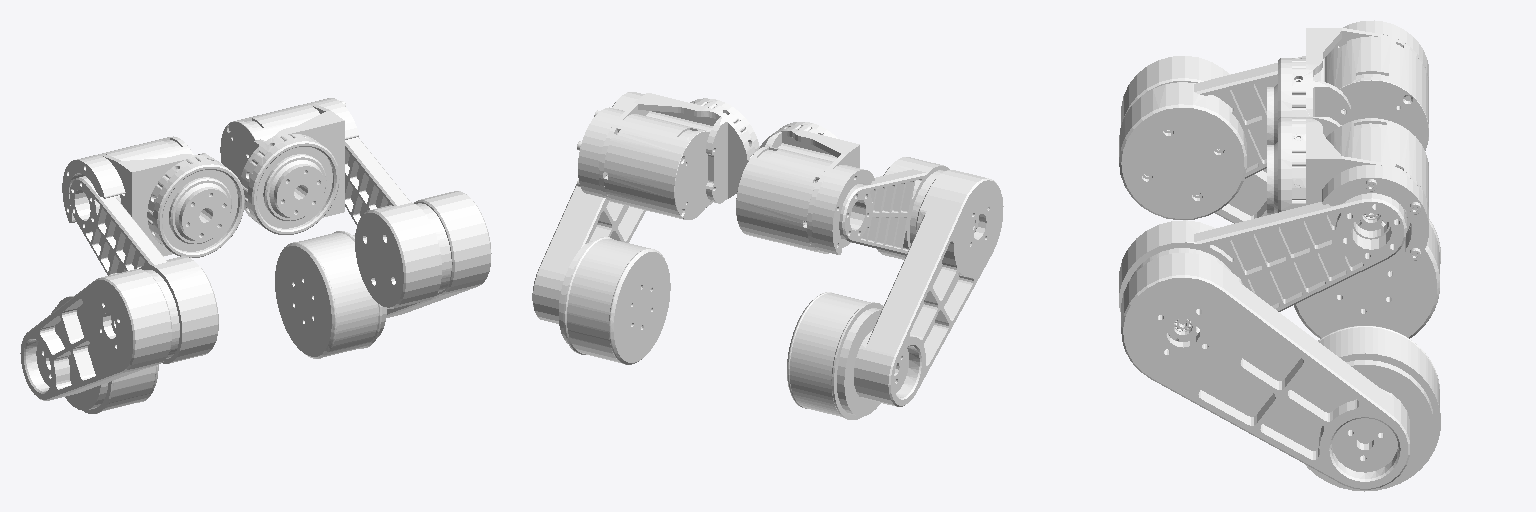
robot.urdf — tron1_wheel_leg:
<?xml version='1.0' encoding='utf-8'?>
<robot name="tron1_wheel_leg">
  <link name="base_Link">
    <inertial>
      <origin xyz="0.000238961410698956 -0.0414964977176522 0.0143228345893612" rpy="0 0 0" />
      <mass value="2.4" />
      <inertia ixx="0.00109910968168" ixy="4.21996020753e-08" ixz="-6.28247829287e-08" iyy="0.00219115654325" iyz="8.29875769819e-05" izz="0.00216761305566" />
    </inertial>
    <visual>
      <origin xyz="0 0 0" rpy="0 0 0" />
      <geometry>
        <mesh filename="meshes/base_link.STL" />
      </geometry>
      <material name="">
        <color rgba="1 1 1 1" />
      </material>
    </visual>
    <collision name="base_ellipsoid_cut_000">
      <origin xyz="0 0 0" rpy="0 0 0" />
      <geometry>
        <mesh filename="meshes/base_ellipsoid_cut_000.stl" />
      </geometry>
    </collision>
    <collision name="base_ellipsoid_cut_001">
      <origin xyz="0 0 0" rpy="0 0 0" />
      <geometry>
        <mesh filename="meshes/base_ellipsoid_cut_001.stl" />
      </geometry>
    </collision>
  </link>
  <link name="abad_R_Link">
    <inertial>
      <origin xyz="0.0121090930850143 0.0378223280299751 0.000356934751117211" rpy="0 0 0" />
      <mass value="0.771610354481" />
      <inertia ixx="0.000293809716129" ixy="-6.91676866378e-06" ixz="-8.51601302618e-09" iyy="0.000340551407314" iyz="2.20459921278e-06" izz="0.000305476206336" />
    </inertial>
    <visual>
      <origin xyz="0 0 0" rpy="0 0 0" />
      <geometry>
        <mesh filename="meshes/R_1.STL" />
      </geometry>
      <material name="">
        <color rgba="1 1 1 1" />
      </material>
    </visual>
    <collision>
      <origin xyz="0 0 0" rpy="0 0 0" />
      <geometry>
        <mesh filename="meshes/R_1.STL" />
      </geometry>
    </collision>
  </link>
  <joint name="abad_R_Joint" type="revolute">
    <origin xyz="0.034 0 -0.011996" rpy="0 0 0" />
    <parent link="base_Link" />
    <child link="abad_R_Link" />
    <axis xyz="0 -1 0" />
    <limit lower="-1.396263" upper="0.383972" effort="20.0" velocity="12.0" />
  </joint>
  <link name="hip_R_Link">
    <inertial>
      <origin xyz="0.0184968954465803 -0.0874621342729091 -0.0353372604782438" rpy="0 0 0" />
      <mass value="0.658247886808" />
      <inertia ixx="0.000413404287277" ixy="-1.91998357707e-05" ixz="-7.76042873774e-06" iyy="0.000282633084246" iyz="-4.62598989459e-05" izz="0.000380019728098" />
    </inertial>
    <visual>
      <origin xyz="0 0 0" rpy="0 0 0" />
      <geometry>
        <mesh filename="meshes/R_2.STL" />
      </geometry>
      <material name="">
        <color rgba="1 1 1 1" />
      </material>
    </visual>
    <collision>
      <origin xyz="0 0 0" rpy="0 0 0" />
      <geometry>
        <mesh filename="meshes/R_2.STL" />
      </geometry>
    </collision>
  </link>
  <joint name="hip_R_Joint" type="revolute">
    <origin xyz="0.0425 0.04645 0" rpy="0 0 0" />
    <parent link="abad_R_Link" />
    <child link="hip_R_Link" />
    <axis xyz="1 0 0" />
    <limit lower="0.0" upper="1.012291" effort="20.0" velocity="12.0" />
  </joint>
  <link name="knee_R_Link">
    <inertial>
      <origin xyz="-0.0232131163131659 0.0722509386714479 -0.0515131201624246" rpy="0 0 0" />
      <mass value="0.370141758711" />
      <inertia ixx="0.000502227994583" ixy="1.22193231046e-05" ixz="-8.71207315995e-06" iyy="0.000233630172542" iyz="0.000138222692113" izz="0.000328948323424" />
    </inertial>
    <visual>
      <origin xyz="0 0 0" rpy="0 0 0" />
      <geometry>
        <mesh filename="meshes/R_3.STL" />
      </geometry>
      <material name="">
        <color rgba="1 1 1 1" />
      </material>
    </visual>
    <collision>
      <origin xyz="0 0 0" rpy="0 0 0" />
      <geometry>
        <mesh filename="meshes/R_3.STL" />
      </geometry>
    </collision>
  </link>
  <joint name="knee_R_Joint" type="revolute">
    <origin xyz="0.0475 -0.092718 -0.037461" rpy="0 0 0" />
    <parent link="hip_R_Link" />
    <child link="knee_R_Link" />
    <axis xyz="-1 0 0" />
    <limit lower="-1.361357" upper="0.872665" effort="20.0" velocity="12.0" />
  </joint>
  <link name="wheel_R_Link">
    <inertial>
      <origin xyz="0 0 0" rpy="0 0 0" />
      <mass value="0.07" />
      <inertia ixx="4.921875e-05" ixy="0" ixz="0" iyy="3.17552083333e-05" iyz="0" izz="3.17552083333e-05" />
    </inertial>
    <visual>
      <origin xyz="0 0 0" rpy="0 0 0" />
      <geometry>
        <mesh filename="meshes/R_4.STL" />
      </geometry>
      <material name="">
        <color rgba="1 1 1 1" />
      </material>
    </visual>
    <collision>
      <origin xyz="0.0115 0 0" rpy="0 1.570796326795 0" />
      <geometry>
        <cylinder radius="0.0375" length="0.035" />
      </geometry>
    </collision>
  </link>
  <joint name="wheel_R_Joint" type="continuous">
    <origin xyz="-0.0545 0.089566 -0.063858" rpy="0 0 0" />
    <parent link="knee_R_Link" />
    <child link="wheel_R_Link" />
    <axis xyz="-1 0 0" />
    <limit effort="8.0" velocity="20.0" />
  </joint>
  <link name="abad_L_Link">
    <inertial>
      <origin xyz="-0.0118089656280448 0.0377086917867089 0.000263652495331686" rpy="0 0 0" />
      <mass value="0.767910706162" />
      <inertia ixx="0.000294835365595" ixy="6.9346118204e-06" ixz="-2.73276640611e-09" iyy="0.000341697738624" iyz="2.16249149803e-06" izz="0.000306510403039" />
    </inertial>
    <visual>
      <origin xyz="0 0 0" rpy="0 0 0" />
      <geometry>
        <mesh filename="meshes/L_1.STL" />
      </geometry>
      <material name="">
        <color rgba="1 1 1 1" />
      </material>
    </visual>
    <collision>
      <origin xyz="0 0 0" rpy="0 0 0" />
      <geometry>
        <mesh filename="meshes/L_1.STL" />
      </geometry>
    </collision>
  </link>
  <joint name="abad_L_Joint" type="revolute">
    <origin xyz="-0.034 0 -0.011996" rpy="0 0 0" />
    <parent link="base_Link" />
    <child link="abad_L_Link" />
    <axis xyz="0 -1 0" />
    <limit lower="-0.383972" upper="1.396263" effort="20.0" velocity="12.0" />
  </joint>
  <link name="hip_L_Link">
    <inertial>
      <origin xyz="-0.0166476119103858 -0.0874626198269629 -0.0353369417306485" rpy="0 0 0" />
      <mass value="0.660615944192" />
      <inertia ixx="0.000414891515865" ixy="1.92747881912e-05" ixz="7.78448654998e-06" iyy="0.000283517213649" iyz="-4.64838129415e-05" izz="0.000381519502869" />
    </inertial>
    <visual>
      <origin xyz="0 0 0" rpy="0 0 0" />
      <geometry>
        <mesh filename="meshes/L_2.STL" />
      </geometry>
      <material name="">
        <color rgba="1 1 1 1" />
      </material>
    </visual>
    <collision>
      <origin xyz="0 0 0" rpy="0 0 0" />
      <geometry>
        <mesh filename="meshes/L_2.STL" />
      </geometry>
    </collision>
  </link>
  <joint name="hip_L_Joint" type="revolute">
    <origin xyz="-0.0425 0.04645 0" rpy="0 0 0" />
    <parent link="abad_L_Link" />
    <child link="hip_L_Link" />
    <axis xyz="-1 0 0" />
    <limit lower="-1.012291" upper="0.0" effort="20.0" velocity="12.0" />
  </joint>
  <link name="knee_L_Link">
    <inertial>
      <origin xyz="0.0236131163133993 0.0738374886450766 -0.0528796974062648" rpy="0 0 0" />
      <mass value="0.371473349646" />
      <inertia ixx="0.000504034767865" ixy="-1.22632823816e-05" ixz="8.74341488746e-06" iyy="0.000234470660343" iyz="0.000138719950291" izz="0.000330131720806" />
    </inertial>
    <visual>
      <origin xyz="0 0 0" rpy="0 0 0" />
      <geometry>
        <mesh filename="meshes/L_3.STL" />
      </geometry>
      <material name="">
        <color rgba="1 1 1 1" />
      </material>
    </visual>
    <collision>
      <origin xyz="0 0 0" rpy="0 0 0" />
      <geometry>
        <mesh filename="meshes/L_3.STL" />
      </geometry>
    </collision>
  </link>
  <joint name="knee_L_Joint" type="revolute">
    <origin xyz="-0.0453 -0.094305 -0.036094" rpy="0 0 0" />
    <parent link="hip_L_Link" />
    <child link="knee_L_Link" />
    <axis xyz="1 0 0" />
    <limit lower="-0.872665" upper="1.361357" effort="20.0" velocity="12.0" />
  </joint>
  <link name="wheel_L_Link">
    <inertial>
      <origin xyz="0 0 0" rpy="0 0 0" />
      <mass value="0.07" />
      <inertia ixx="4.921875e-05" ixy="0" ixz="0" iyy="3.17552083333e-05" iyz="0" izz="3.17552083333e-05" />
    </inertial>
    <visual>
      <origin xyz="0 0 0" rpy="0 0 0" />
      <geometry>
        <mesh filename="meshes/L_4.STL" />
      </geometry>
      <material name="">
        <color rgba="1 1 1 1" />
      </material>
    </visual>
    <collision>
      <origin xyz="-0.0115 0 0" rpy="0 1.570796326795 0" />
      <geometry>
        <cylinder radius="0.0375" length="0.035" />
      </geometry>
    </collision>
  </link>
  <joint name="wheel_L_Joint" type="continuous">
    <origin xyz="0.0549 0.091153 -0.065225" rpy="0 0 0" />
    <parent link="knee_L_Link" />
    <child link="wheel_L_Link" />
    <axis xyz="1 0 0" />
    <limit effort="8.0" velocity="20.0" />
  </joint>
</robot>

--- Render facts (derived) ---
The picture shows the robot from 3 angles, left to right: view 1: azimuth 30°, elevation 25°; view 2: azimuth 150°, elevation 25°; view 3: azimuth 270°, elevation 25°; orthographic projection.
Robot: tron1_wheel_leg — 9 links, 8 joints (6 revolute, 2 continuous); root link base_Link; default pose: every joint at zero.
Visible links, largest first — view 1: knee_L_Link, abad_R_Link, abad_L_Link, hip_R_Link, wheel_R_Link, hip_L_Link, knee_R_Link, wheel_L_Link; view 2: knee_L_Link, abad_R_Link, abad_L_Link, wheel_R_Link, hip_L_Link, knee_R_Link, wheel_L_Link; view 3: knee_R_Link, hip_L_Link, hip_R_Link, abad_R_Link, abad_L_Link, wheel_L_Link, wheel_R_Link, knee_L_Link.
Link boxes in pixels (left/top/right/bottom): knee_L_Link: left=20, top=269, right=171, bottom=410; abad_R_Link: left=220, top=98, right=358, bottom=234; abad_L_Link: left=62, top=136, right=244, bottom=257; hip_R_Link: left=345, top=137, right=451, bottom=308; wheel_R_Link: left=275, top=231, right=381, bottom=358; hip_L_Link: left=69, top=176, right=218, bottom=363; knee_R_Link: left=353, top=191, right=491, bottom=337; wheel_L_Link: left=57, top=296, right=158, bottom=413; knee_L_Link: left=837, top=170, right=1003, bottom=416; abad_R_Link: left=577, top=93, right=759, bottom=219; abad_L_Link: left=736, top=122, right=874, bottom=254; wheel_R_Link: left=563, top=237, right=670, bottom=364; hip_L_Link: left=839, top=157, right=978, bottom=259; knee_R_Link: left=532, top=92, right=645, bottom=343; wheel_L_Link: left=787, top=292, right=883, bottom=419; knee_R_Link: left=1121, top=253, right=1433, bottom=489; hip_L_Link: left=1119, top=56, right=1305, bottom=219; hip_R_Link: left=1119, top=193, right=1406, bottom=349; abad_R_Link: left=1267, top=117, right=1428, bottom=271; abad_L_Link: left=1267, top=20, right=1428, bottom=150; wheel_L_Link: left=1294, top=219, right=1440, bottom=338; wheel_R_Link: left=1305, top=326, right=1440, bottom=491; knee_L_Link: left=1121, top=56, right=1390, bottom=271.
Size in the robot's own frame: 0.2574 by 0.1586 by 0.1703 metres.
Meshes: 9 distinct files referenced, 8 mesh visuals loaded (8 binary STL); not drawn: 1 (reference not matched to a file when rendering).
